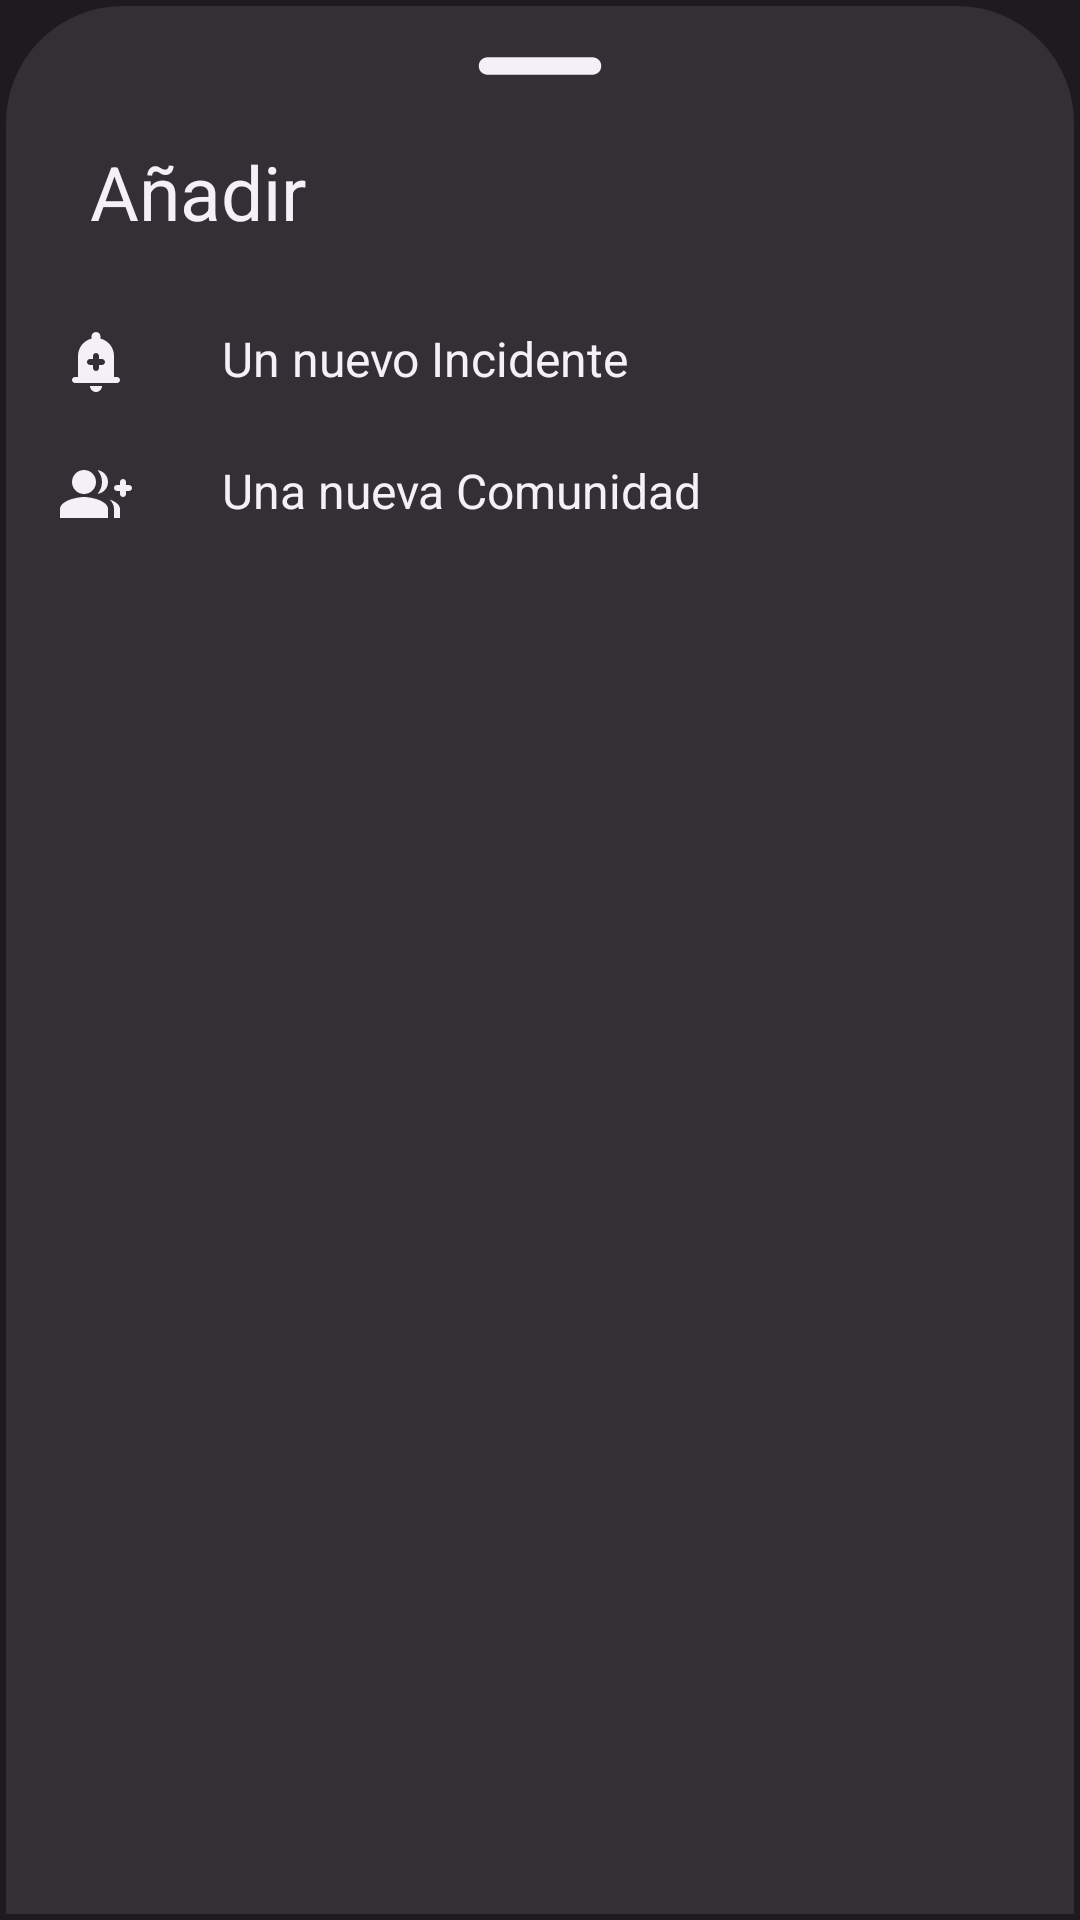

Icon bounding boxes for this 1080px x 1920px phone screenshot, format bbox=(x1, y1, x2, y2):
add alert: bbox=(72, 332, 120, 392)
group add: bbox=(60, 470, 132, 518)
